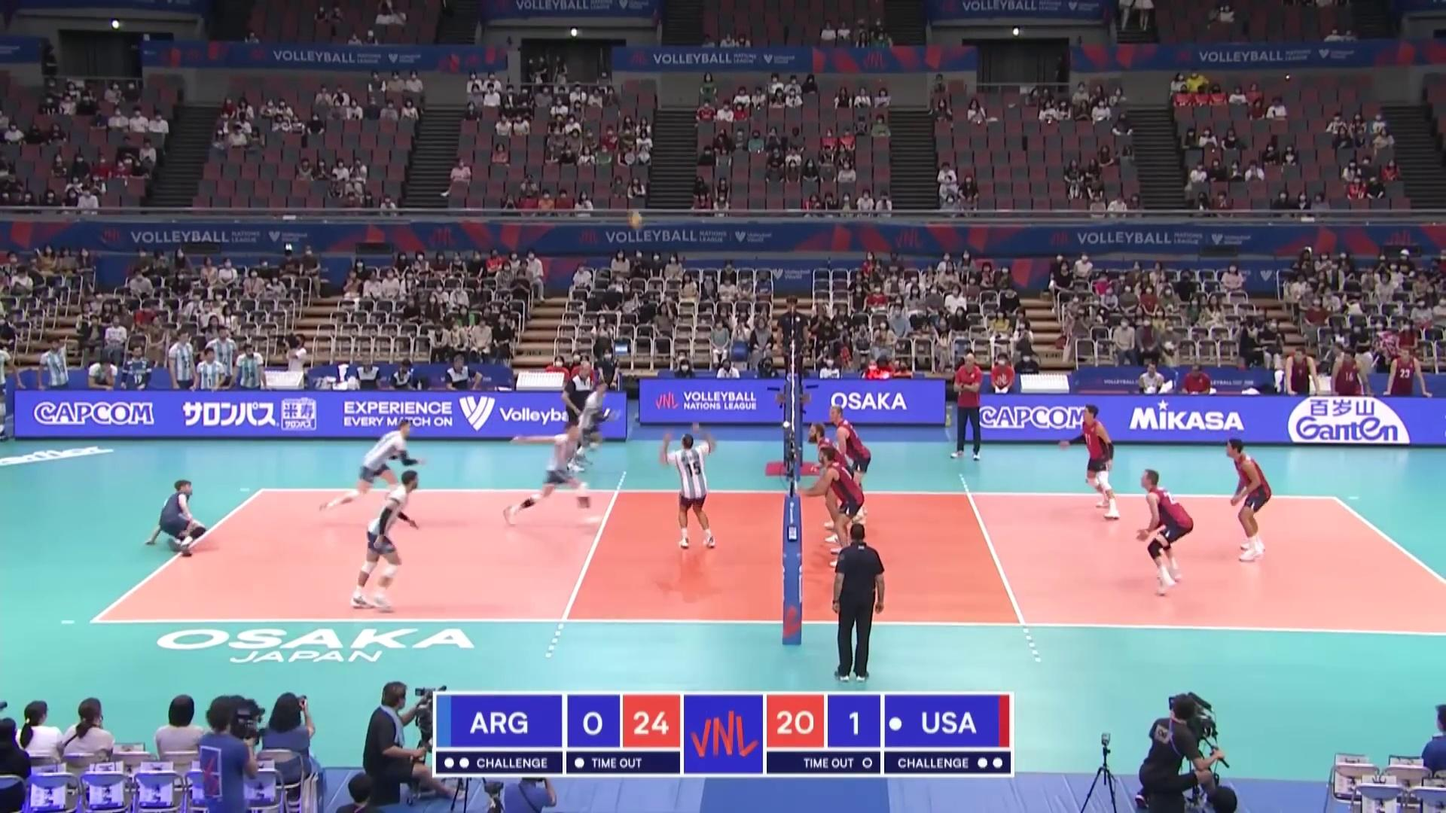player: (347, 470, 418, 612), (505, 420, 596, 528), (319, 418, 418, 516), (1135, 470, 1196, 599), (1061, 402, 1121, 523), (661, 430, 721, 549), (813, 446, 866, 567), (1224, 438, 1274, 564), (805, 423, 856, 542), (826, 404, 871, 520), (147, 480, 210, 558), (568, 380, 610, 472)
refree: (830, 523, 888, 678), (772, 294, 810, 393)
